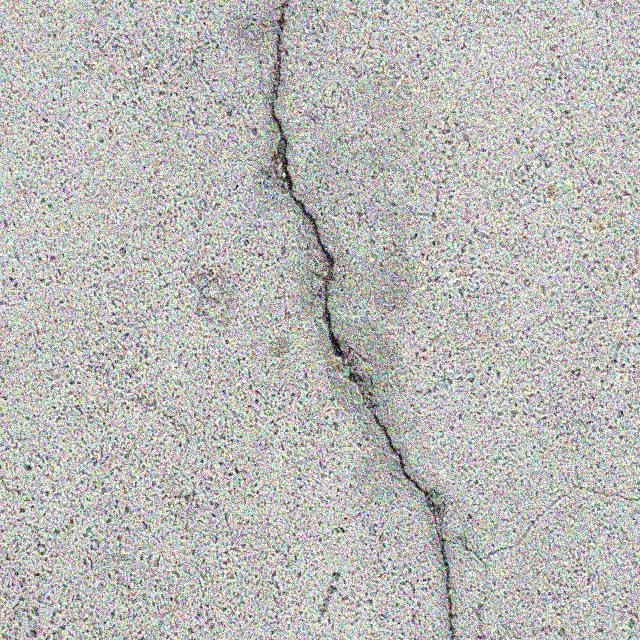SurfaceCrack: (236, 1, 490, 638)
